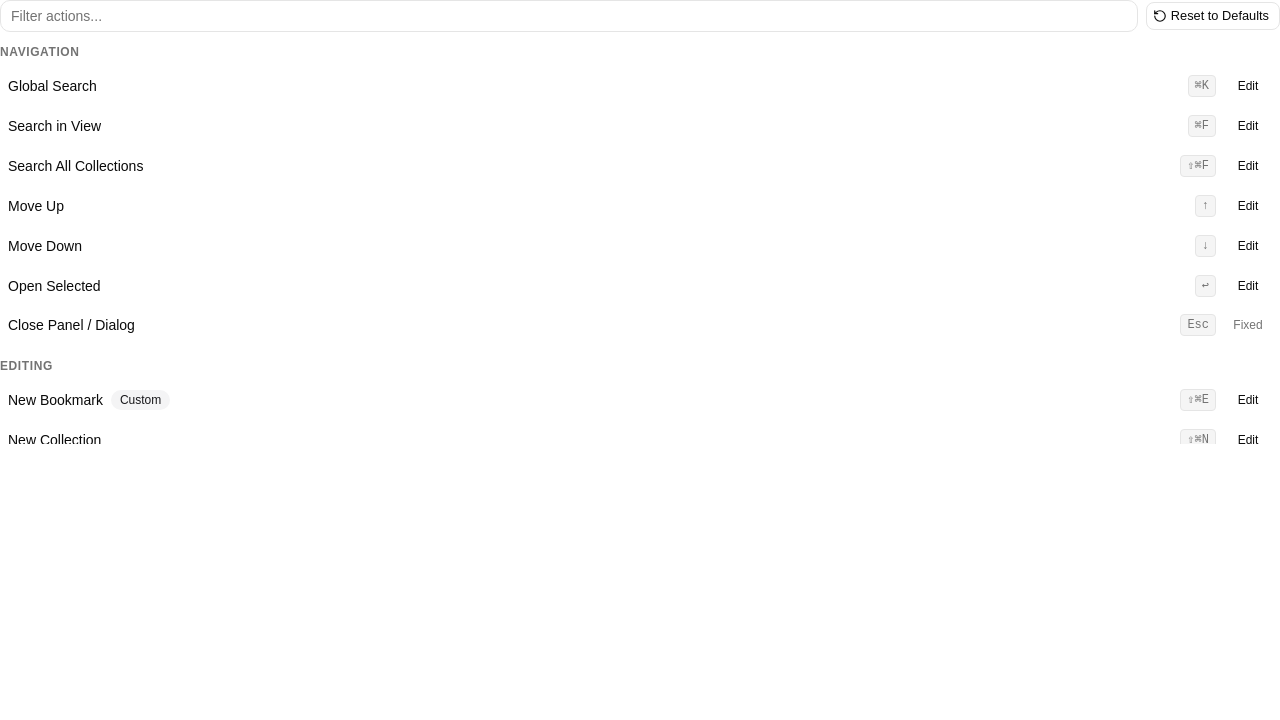
ShortcutEditor › resets every shortcut to its default after confirming
Expected: the text "⇧⌘E" is shown, [1180,389,1216,411]
Click the button "Reset to Defaults" at (1213, 16), box [1146,2,1279,30]
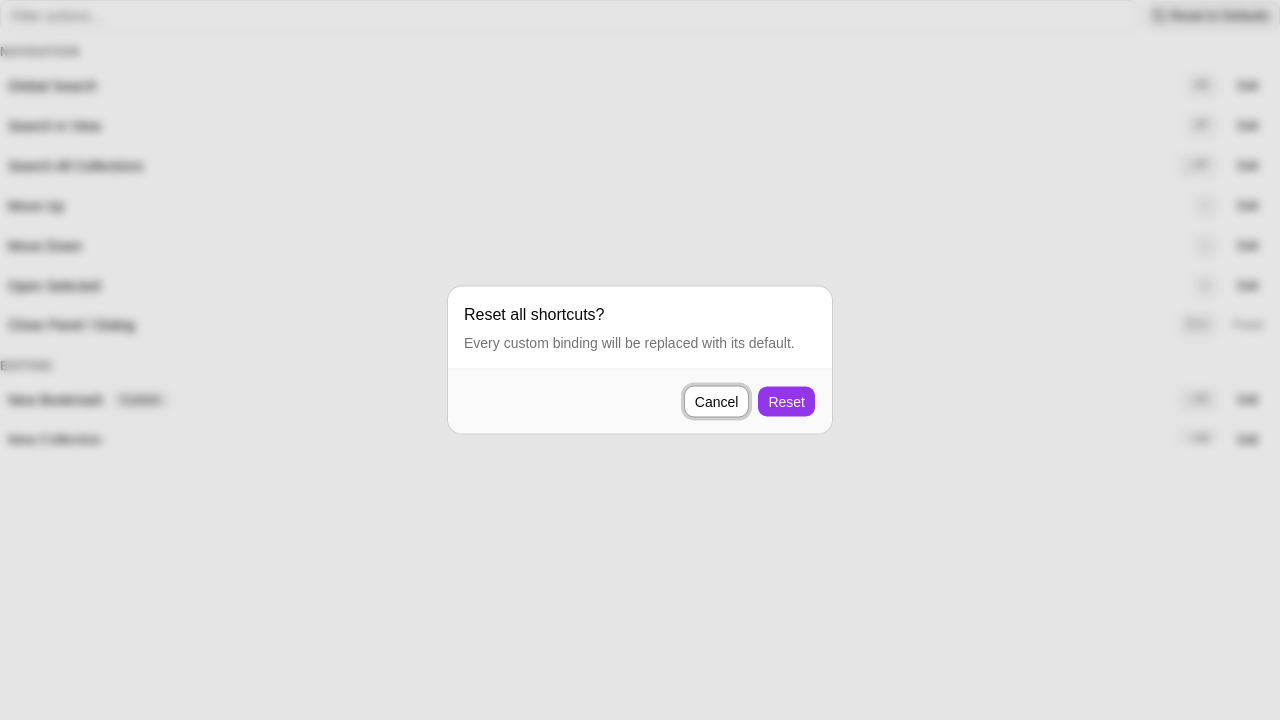
Click the button "Reset" at (787, 402), box [757,386,816,418]
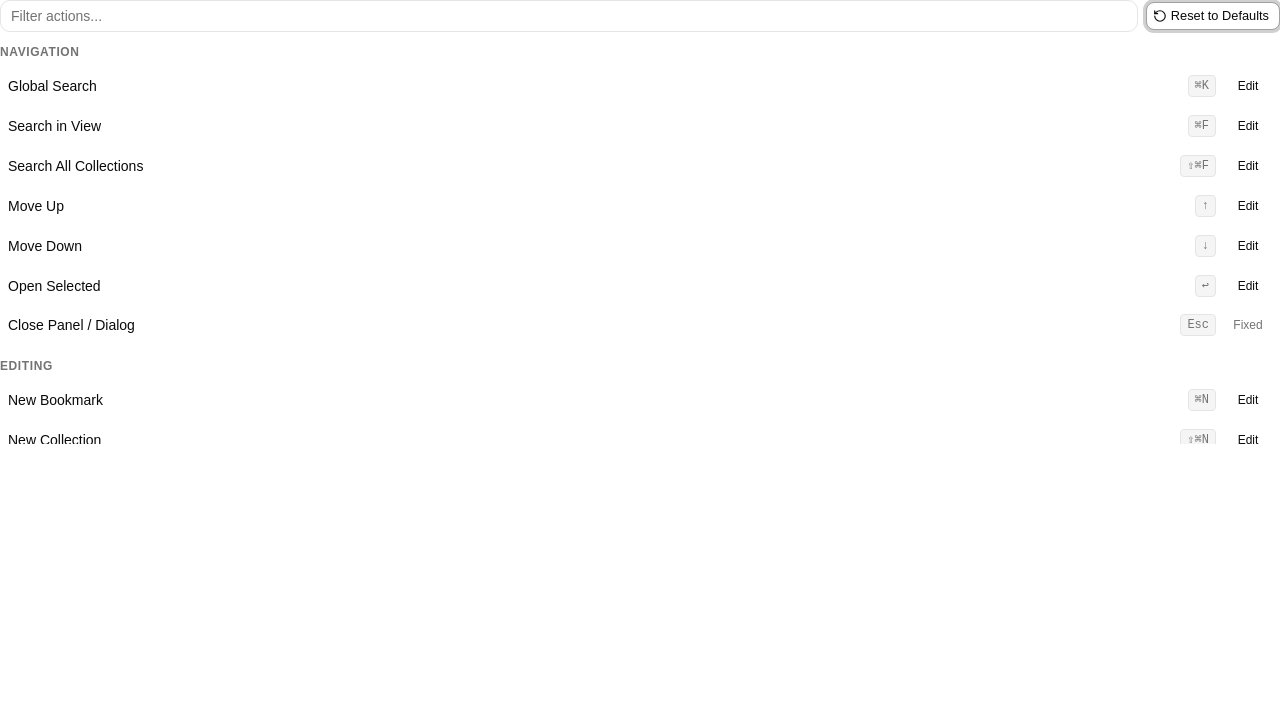
Result: the text "⌘N" is shown at [1188,389,1216,411]
Result: the icon "Custom" is gone
